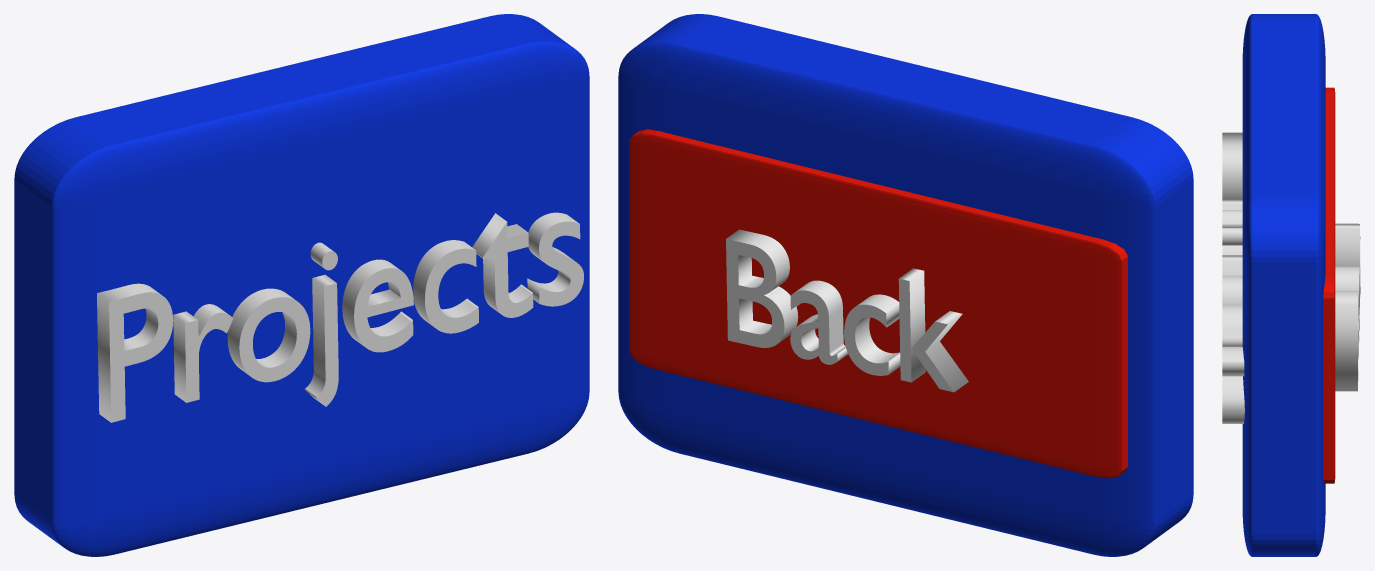
Rendered from Projects.glb.
The picture shows the model from 3 angles, left to right: view 1: azimuth 30°, elevation 25°; view 2: azimuth 150°, elevation 25°; view 3: azimuth 270°, elevation 25°; orthographic projection. The views are drawn at different scales.
Parts seen in each view (by area): view 1: Cube, Text; view 2: Cube, Cube.001, Text.001; view 3: Cube, Text, Cube.001, Text.001.
Part boxes in pixels (x1=…): Cube: x1=14, y1=14, x2=589, y2=556; Text: x1=97, y1=212, x2=583, y2=422; Cube: x1=618, y1=14, x2=1193, y2=556; Cube.001: x1=629, y1=129, x2=1127, y2=478; Text.001: x1=726, y1=229, x2=968, y2=392; Cube: x1=1242, y1=14, x2=1325, y2=556; Text: x1=1222, y1=132, x2=1244, y2=423; Cube.001: x1=1323, y1=87, x2=1335, y2=483; Text.001: x1=1335, y1=223, x2=1360, y2=391.
Bounding box in the file's own units: 412 × 301 × 106.
